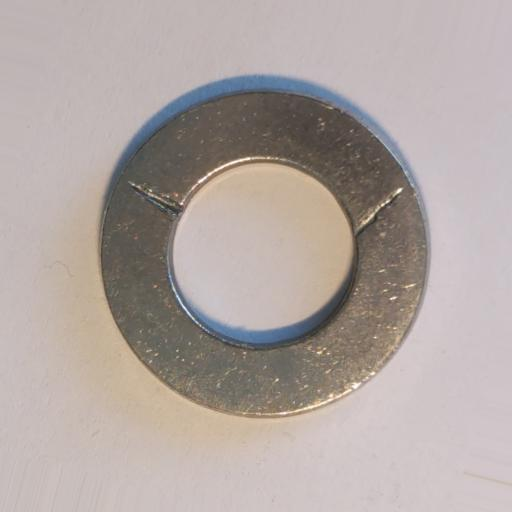scratch: (356, 188, 402, 233), (127, 181, 184, 215)
